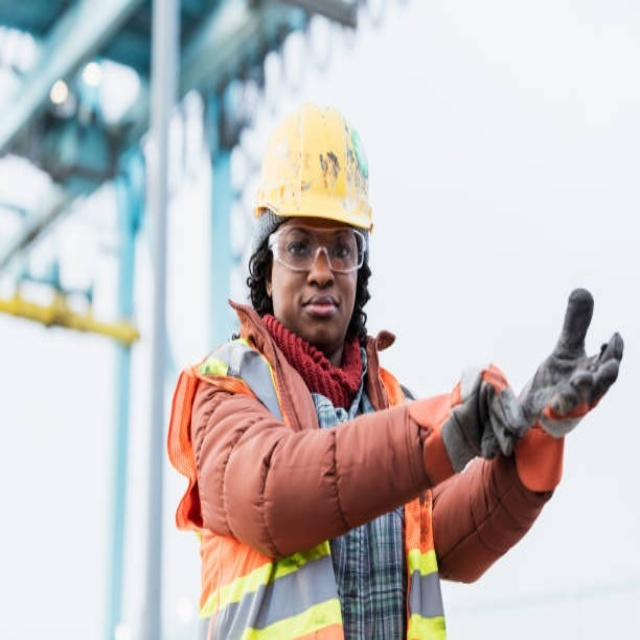Gafas: (266, 221, 367, 273)
Guantes: (517, 290, 626, 445), (440, 368, 526, 474)
Sin_mascara: (295, 282, 344, 329)
